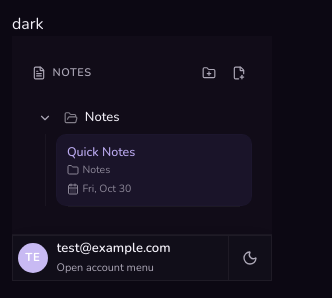
Sidebar › cycles the theme from the sidebar footer icon
This screenshot has width=332, height=298.
Check: the text with test id "theme-mode" reads "dark", box 12,13 -> 44,35
Click the button named "Switch to system theme from dark mode" at {"x": 250, "y": 258}, box 229,240 -> 271,276
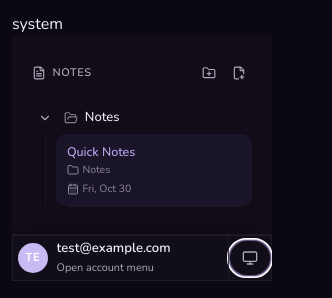
Check: the text with test id "theme-mode" reads "system", box 12,13 -> 63,35
